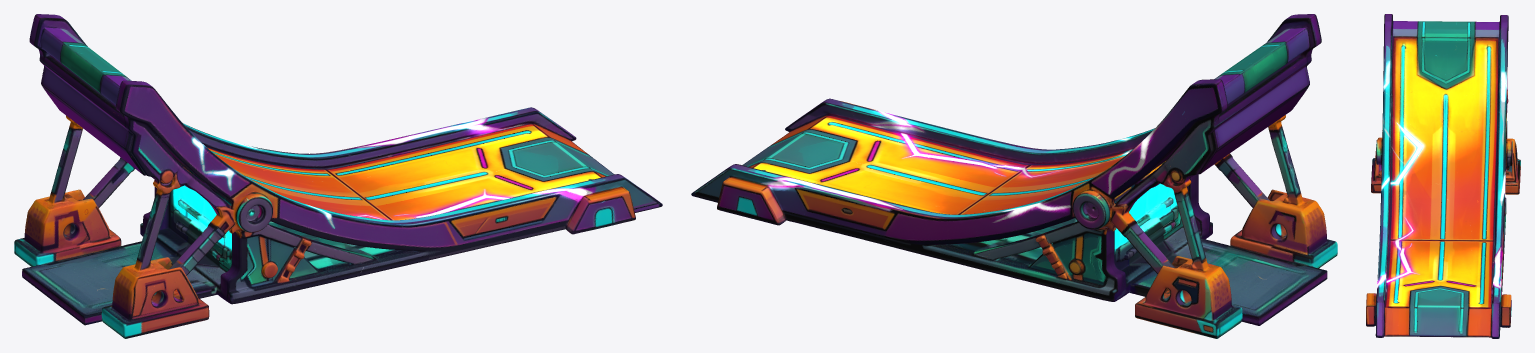
File: Tramp.glb
3 renders of one model, left to right at view 1: azimuth 30°, elevation 25°; view 2: azimuth 150°, elevation 25°; view 3: azimuth 270°, elevation 25°, orthographic. The views are drawn at different scales.
Visible parts, largest first — view 1: tramp_01; view 2: tramp_01; view 3: tramp_01.
Part boxes in pixels (x1=…): tramp_01: x1=14, y1=14, x2=662, y2=338; tramp_01: x1=691, y1=14, x2=1337, y2=338; tramp_01: x1=1366, y1=14, x2=1520, y2=338.
Size of the model in its own units: 3.82 by 1.61 by 1.42.
1 material, 1 textured.
